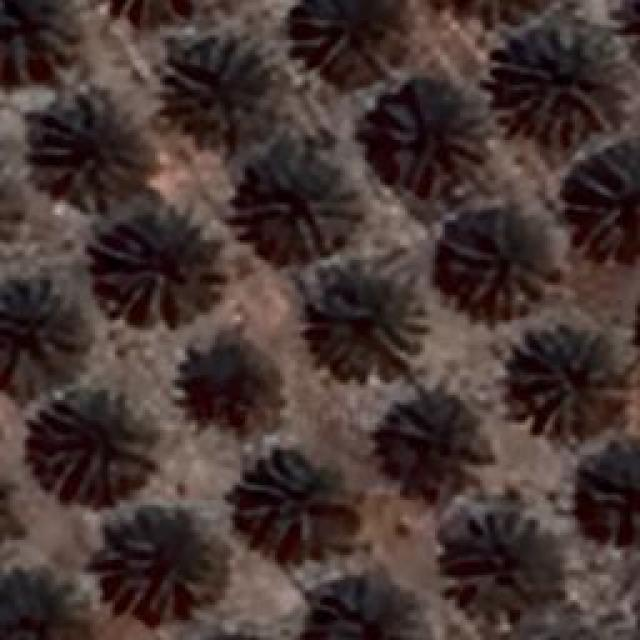PalmTree: (95, 210, 223, 325), (27, 388, 155, 500), (510, 322, 625, 442), (240, 142, 360, 255), (492, 22, 608, 136), (30, 90, 145, 202), (375, 82, 495, 188), (308, 275, 428, 380), (105, 515, 220, 620), (438, 215, 552, 320), (442, 518, 556, 622), (366, 394, 479, 494), (238, 450, 352, 548), (175, 328, 278, 436), (162, 39, 260, 142), (568, 140, 638, 260), (570, 443, 640, 552), (292, 0, 400, 70), (0, 275, 85, 363), (0, 562, 88, 640), (0, 0, 80, 78), (304, 585, 416, 640), (93, 0, 230, 31), (424, 0, 560, 31), (0, 143, 22, 252)
